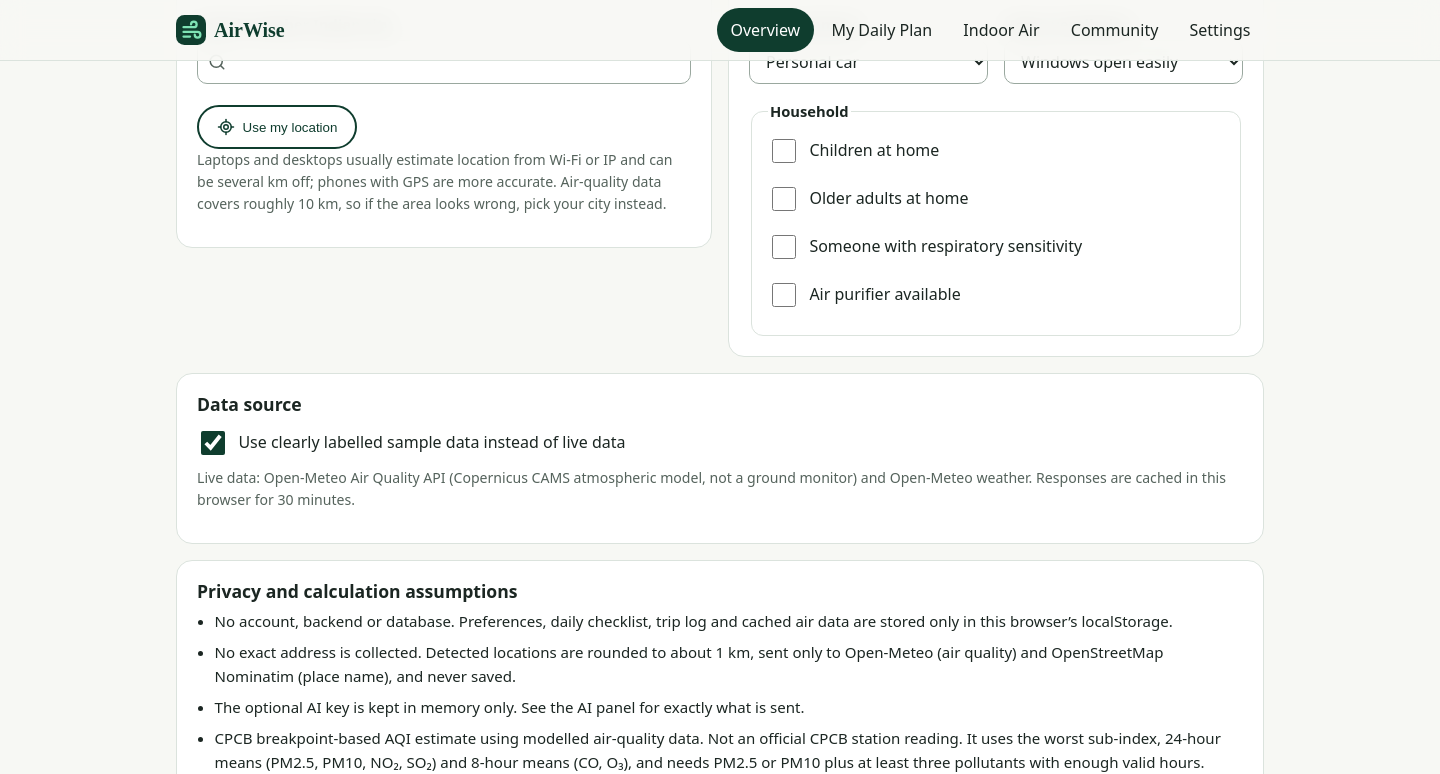
Scenario: community and settings › switches between sample and live data from settings
(page scrolled)
Click the checkbox labelled "Use clearly labelled sample data instead of live data": (213,443) [201, 431, 225, 455]
(page scrolled)
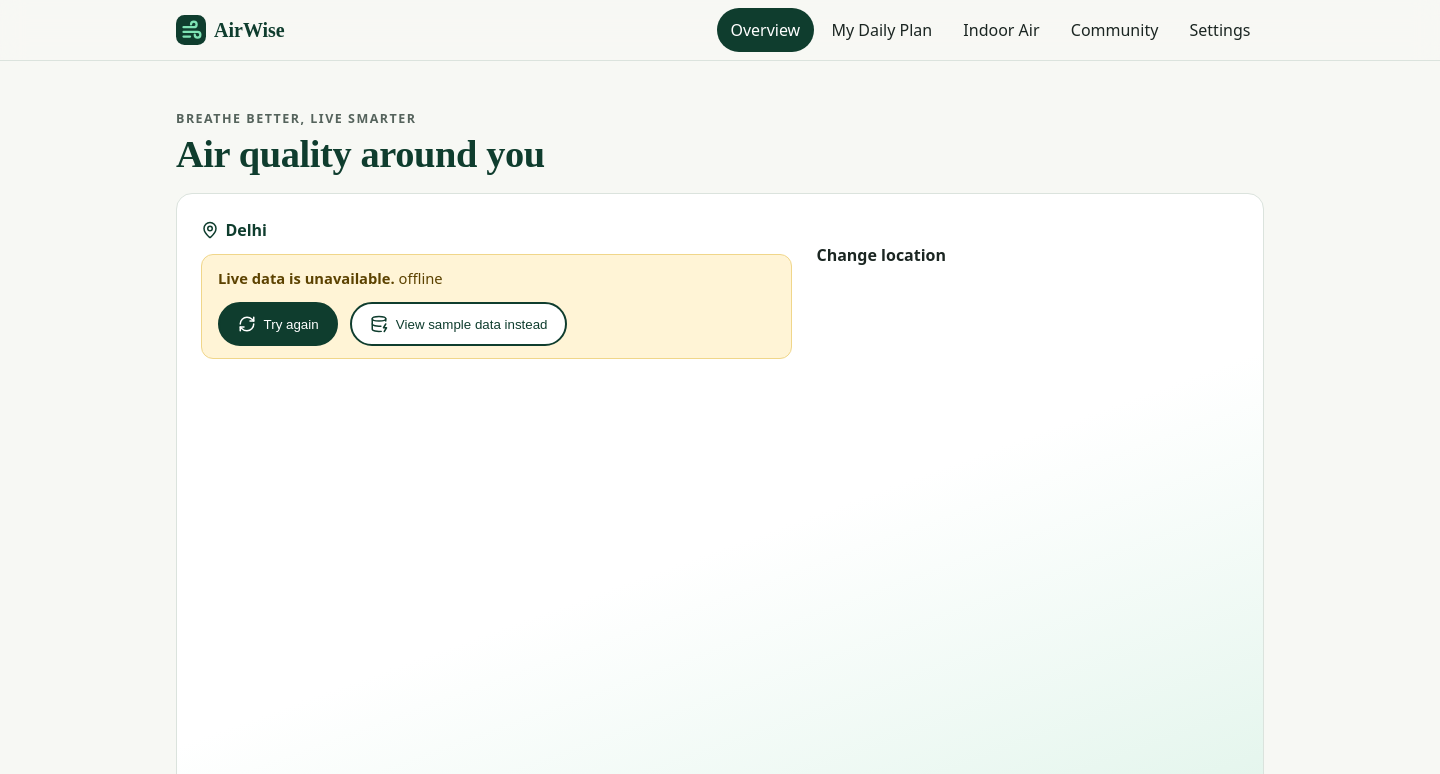
Expected: the text "Live data is unavailable." is shown, [218, 268, 395, 288]
